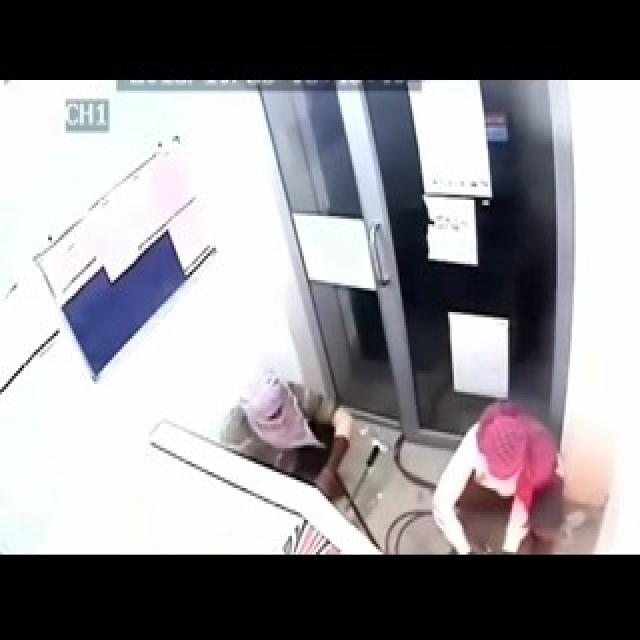thief: (200, 357, 369, 524), (422, 391, 572, 546)
